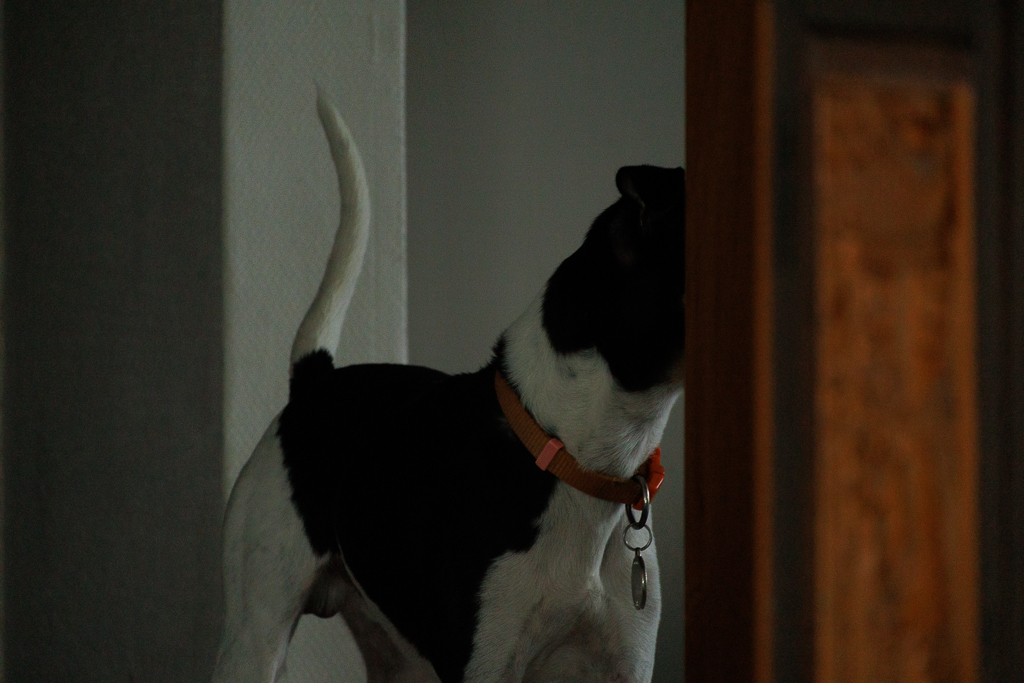Dog: (198, 74, 700, 683)
